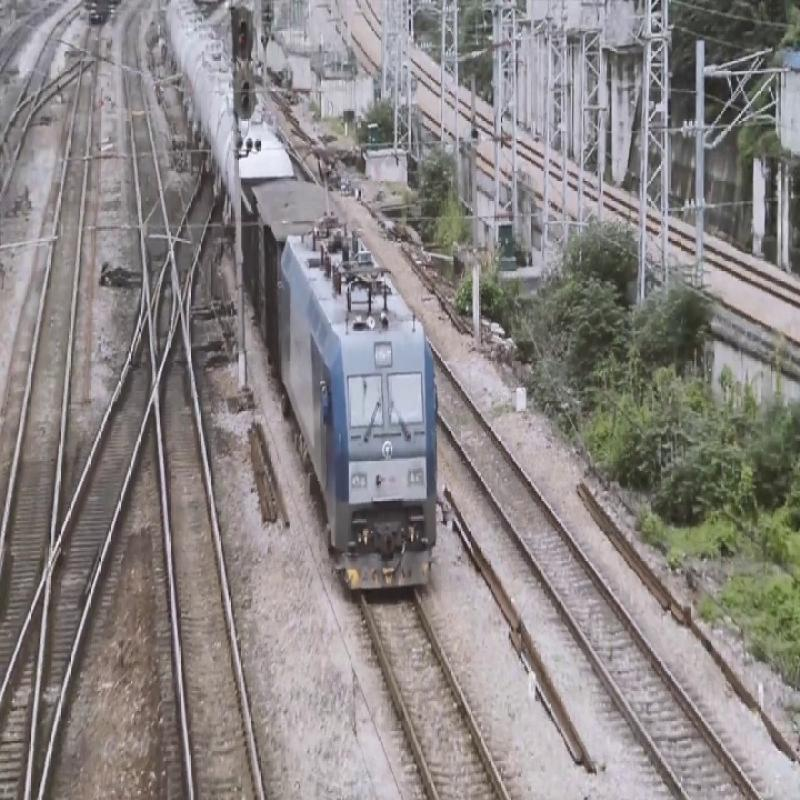train: (272, 233, 446, 602)
